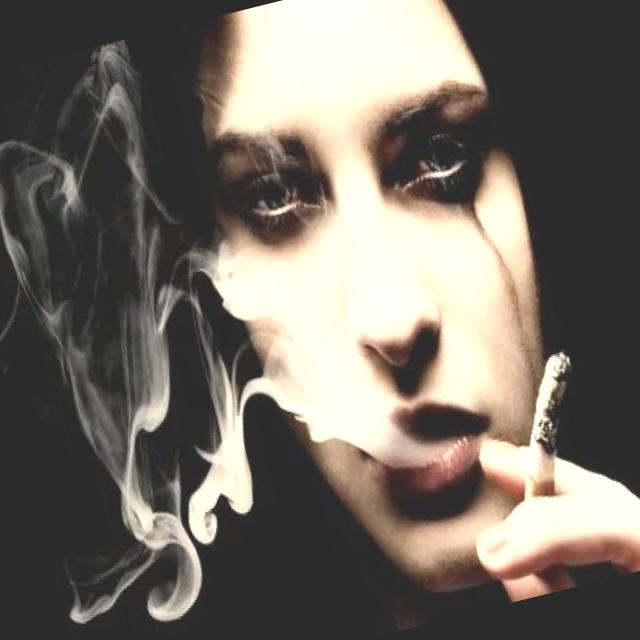smoke: (482, 339, 608, 516)
